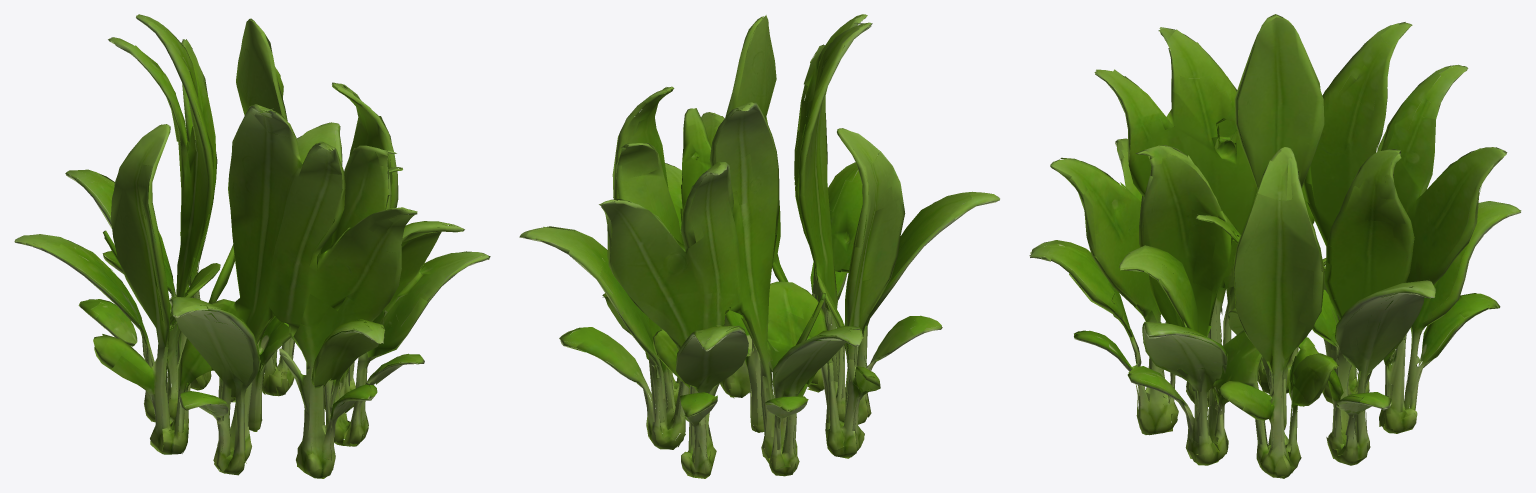
Rendered from vallisneria.glb.
3 renders of one model, left to right at view 1: azimuth 30°, elevation 25°; view 2: azimuth 150°, elevation 25°; view 3: azimuth 270°, elevation 25°, orthographic.
Parts seen in each view (by area): view 1: vallisneria; view 2: vallisneria; view 3: vallisneria.
Part boxes in pixels (left/top/right/bottom): vallisneria: left=14, top=14, right=490, bottom=478; vallisneria: left=519, top=14, right=999, bottom=478; vallisneria: left=1029, top=14, right=1521, bottom=478.
Bounding box in the file's own units: 0.8086 × 0.9356 × 1.
1 material, 1 textured.
